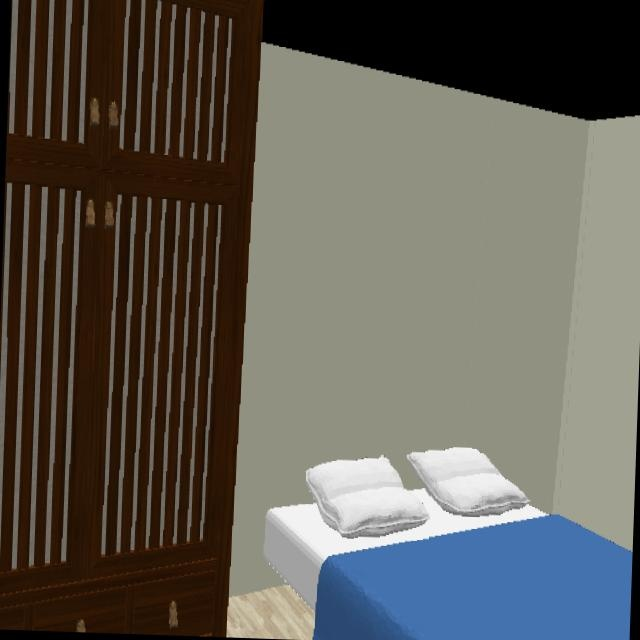bed: (263, 447, 632, 640)
pillow: (305, 456, 429, 538), (407, 447, 529, 515)
